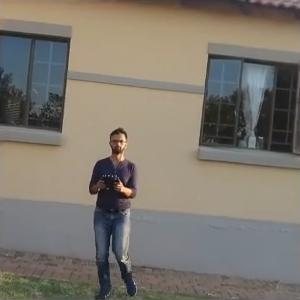follow: (82, 123, 140, 298)
